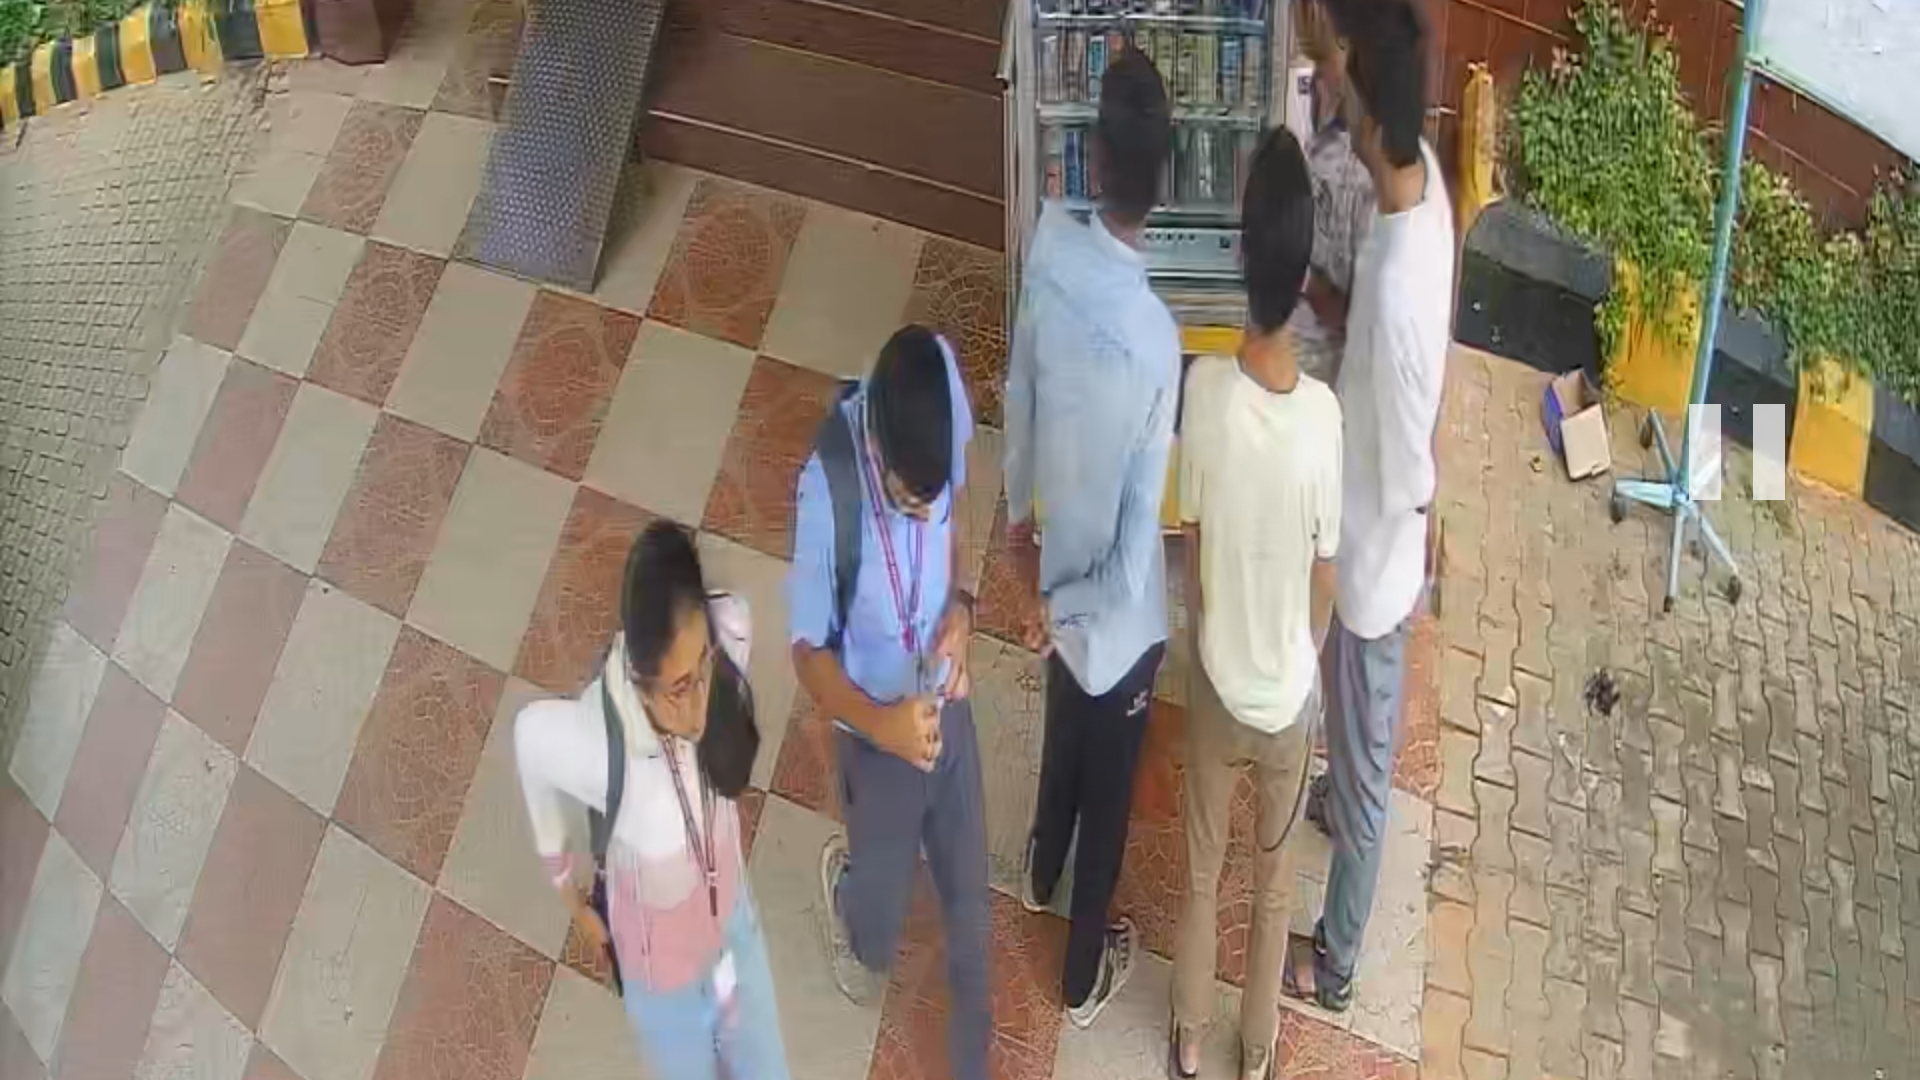not intruder: (524, 517, 823, 1080), (793, 309, 1005, 1080)
